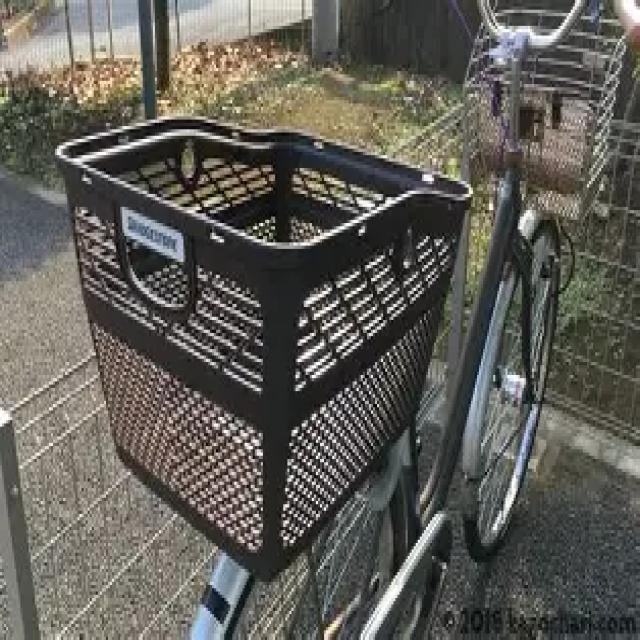basket: (54, 114, 468, 580), (462, 10, 625, 217)
